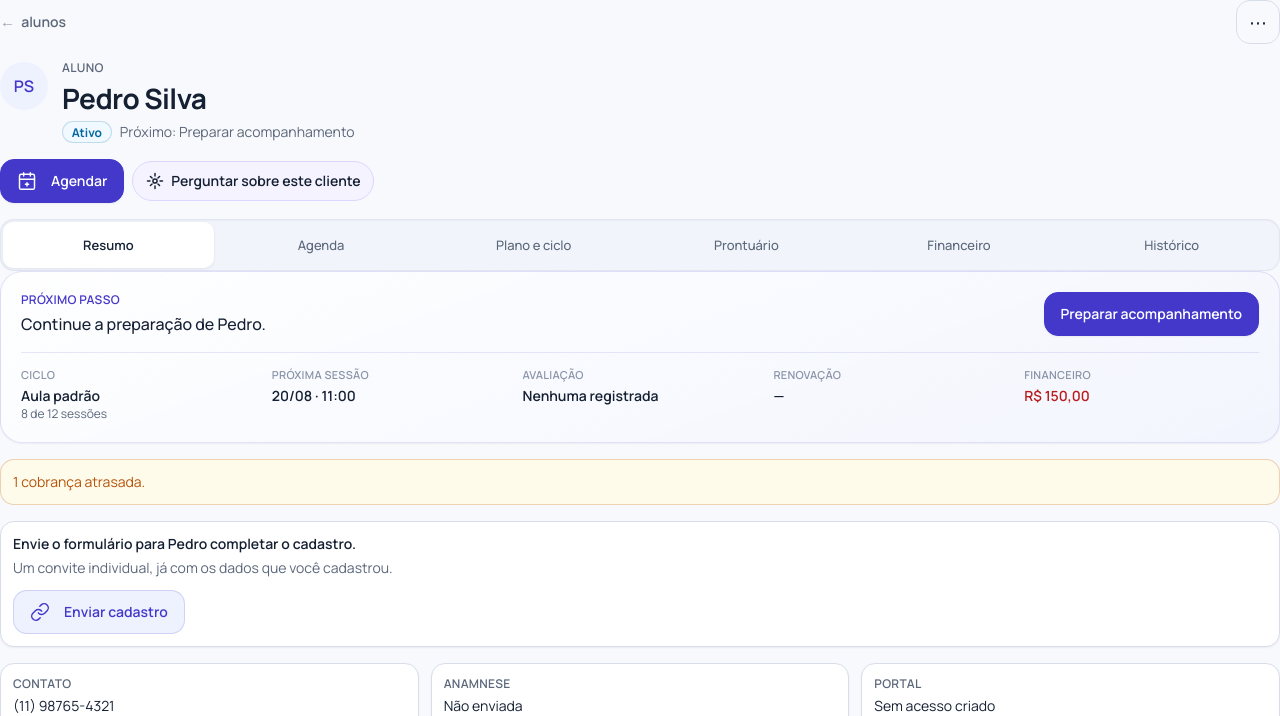
Test: ClientProfile › on a desktop viewport, 'Editar' opens the inline drawer over the Cliente 360° instead of navigating away
This screenshot has width=1280, height=716.
Expected: the heading "Pedro Silva" is shown, [62,79,206,117]
What coordinates should you click on to do the following:
click the heading named "Mais ações"
I would click on:
 (1258, 22)
Its box is [1236,0,1279,44].
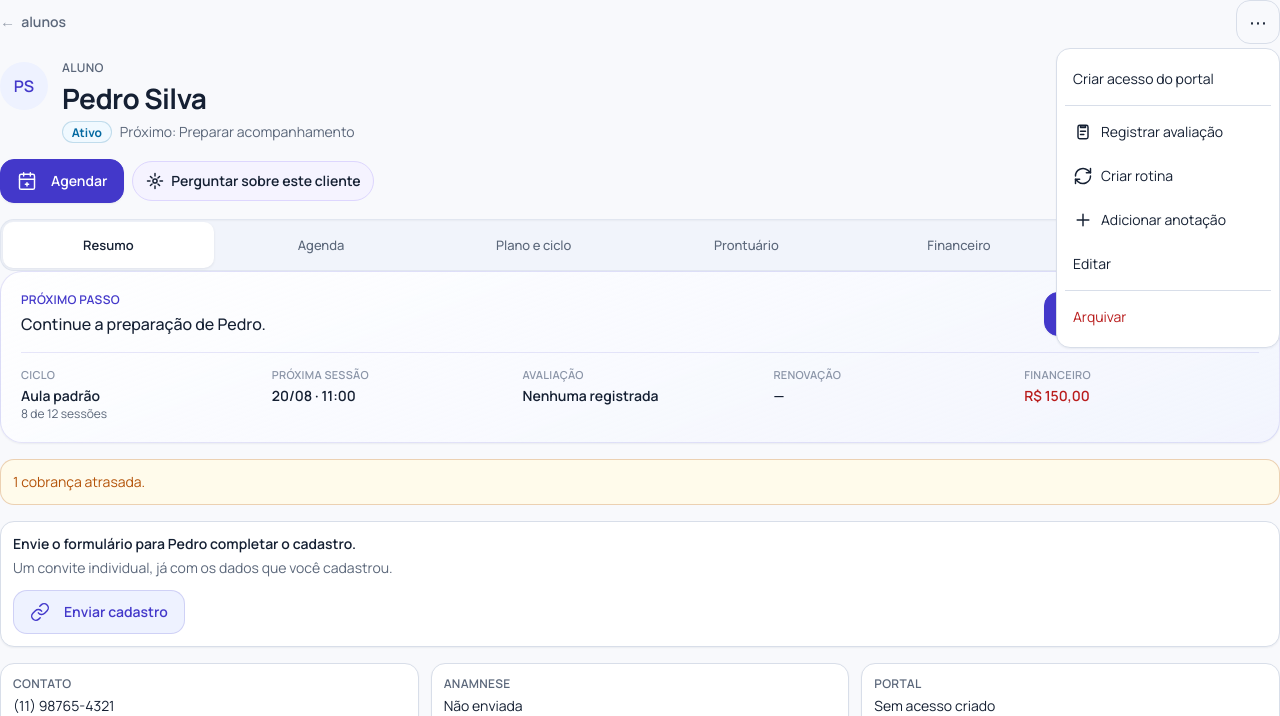
What coordinates should you click on to do the following:
click the button "Editar"
I would click on:
 (1168, 264)
Its box is [1065,242,1271,286].
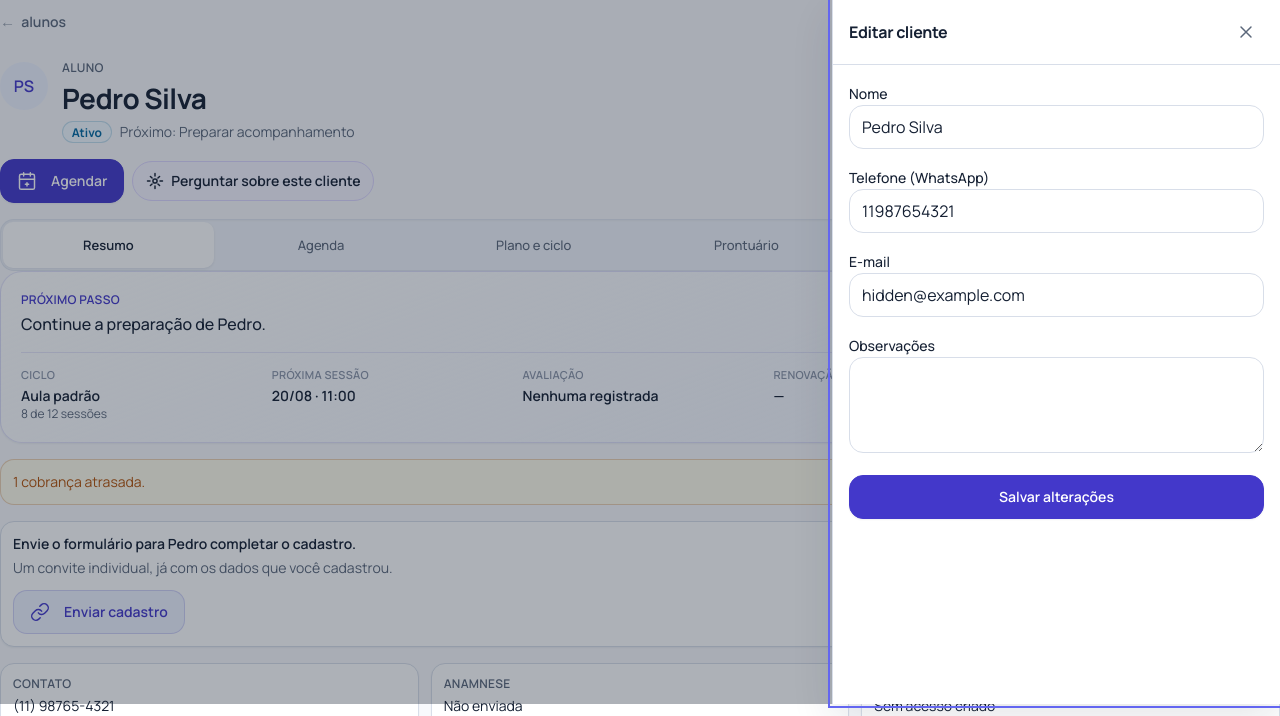
Expected: the heading "Pedro Silva" is shown, [62,79,206,117]
Result: the dialog "Editar cliente" is shown at [832,0,1279,704]
